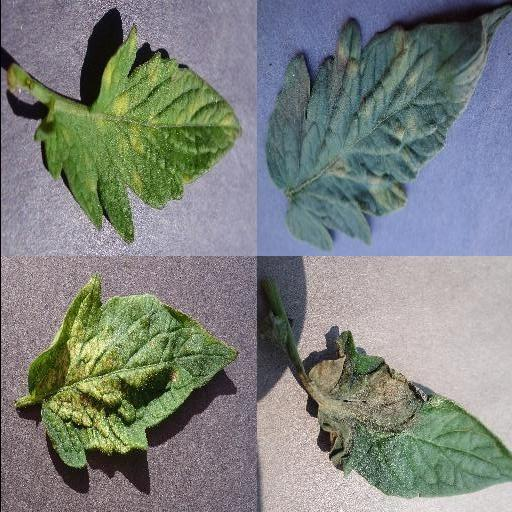Late Blight: (300, 326, 512, 498)
Leaf Mold: (264, 2, 512, 247), (33, 23, 243, 244)
Spider Mites: (27, 276, 239, 469)
